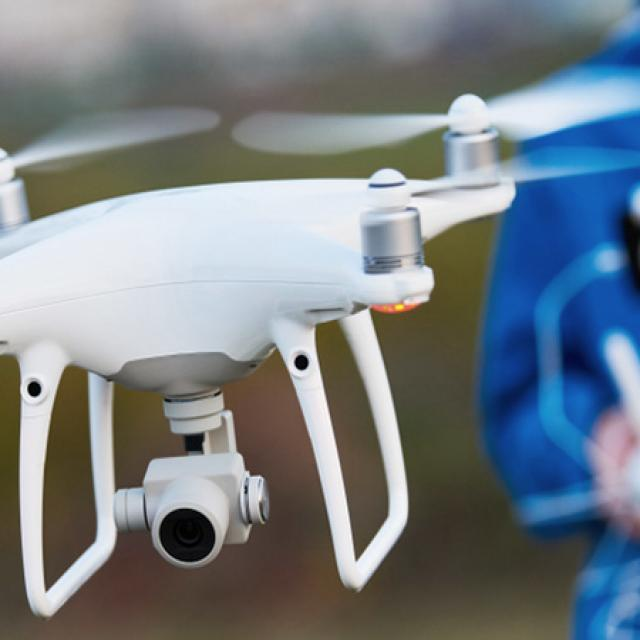drone: (0, 73, 640, 433)
